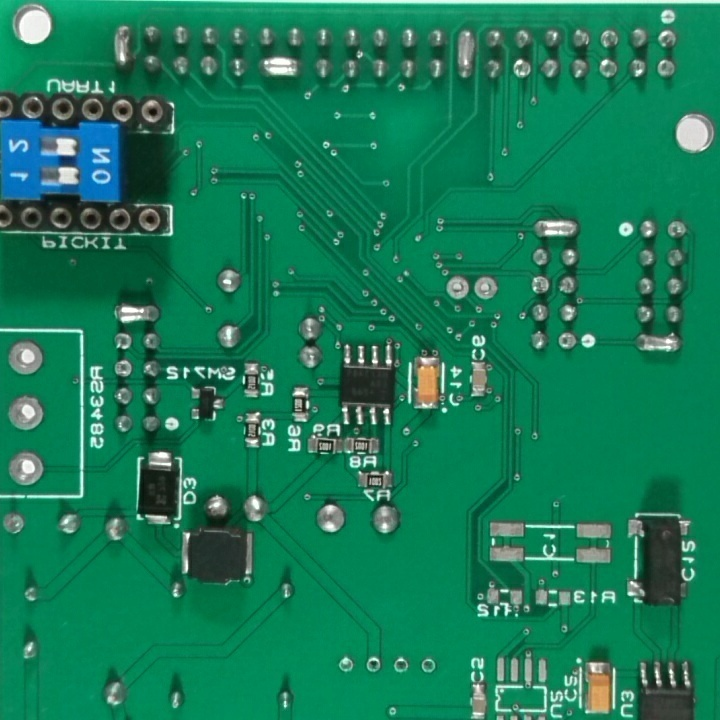F: (4, 337, 47, 380), (3, 449, 47, 491), (5, 393, 49, 432), (333, 649, 359, 680), (472, 274, 499, 303), (444, 274, 470, 303), (1, 510, 28, 535), (509, 55, 535, 80), (656, 26, 679, 54), (597, 29, 623, 53), (556, 329, 579, 355), (363, 651, 384, 679), (417, 655, 440, 679), (665, 220, 689, 243), (529, 275, 551, 299), (113, 357, 134, 382), (391, 652, 410, 677)
P: (452, 26, 479, 85), (632, 329, 684, 358), (110, 298, 163, 325), (530, 215, 581, 242), (110, 21, 135, 75), (257, 52, 302, 82)
